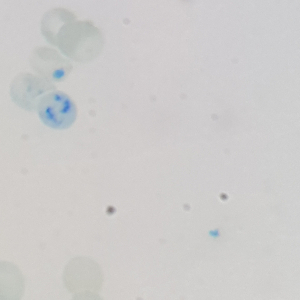aggregate reticulocyte: (34, 89, 79, 132)
erythrocyte: (54, 20, 104, 65), (8, 70, 58, 113), (59, 255, 106, 298), (39, 7, 82, 48)
punctate reticulocyte: (28, 45, 76, 85)
